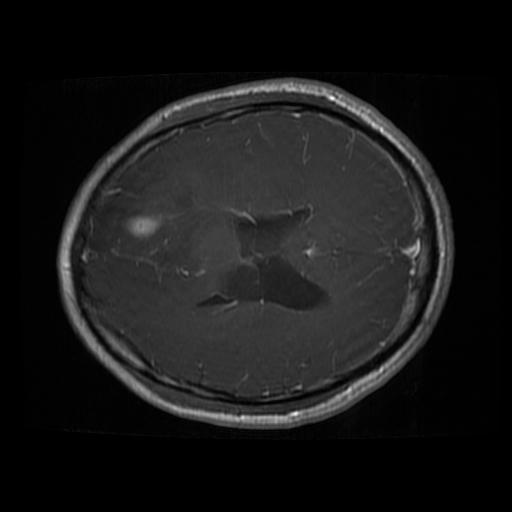glioma: (204, 210, 330, 310)
